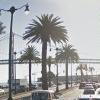Car: (76, 77, 100, 96)
